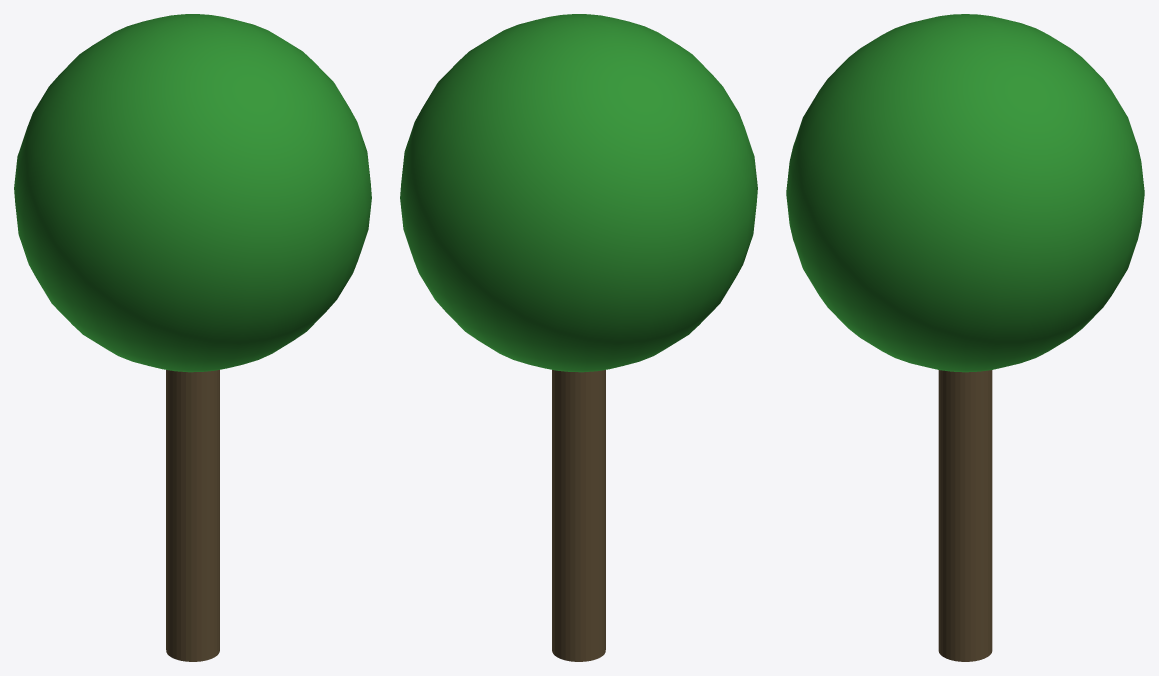
Rendered from Tree.glb.
The picture shows the model from 3 angles, left to right: view 1: azimuth 30°, elevation 25°; view 2: azimuth 150°, elevation 25°; view 3: azimuth 270°, elevation 25°; orthographic projection.
Visible parts, largest first — view 1: Sphere, Cylinder; view 2: Sphere, Cylinder; view 3: Sphere, Cylinder.
Boxes of the visible parts, x1,y1,x2,y2 form: Sphere: (14,14,371,372); Cylinder: (166,370,219,661); Sphere: (400,14,757,372); Cylinder: (552,370,605,661); Sphere: (786,14,1144,372); Cylinder: (938,370,992,661).
Bounding box in the file's own units: 2 × 3.81 × 2.
